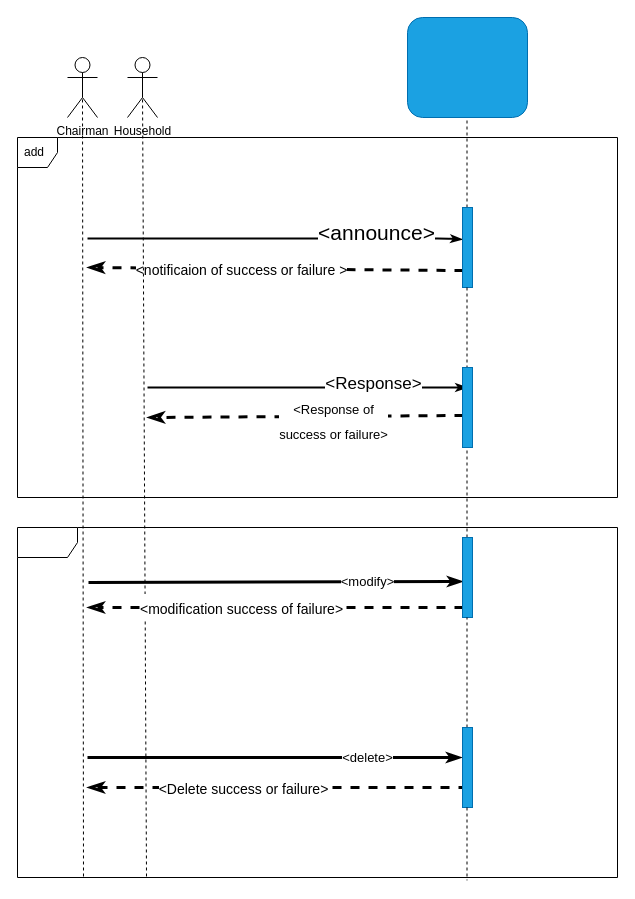
This 635x899 diagram has some shape labels left out. The box of each missing label's shape, as (x1, y1, x2, y2) in pixels:
app: (406, 16, 528, 118)
modity and deledt: (16, 526, 618, 878)
